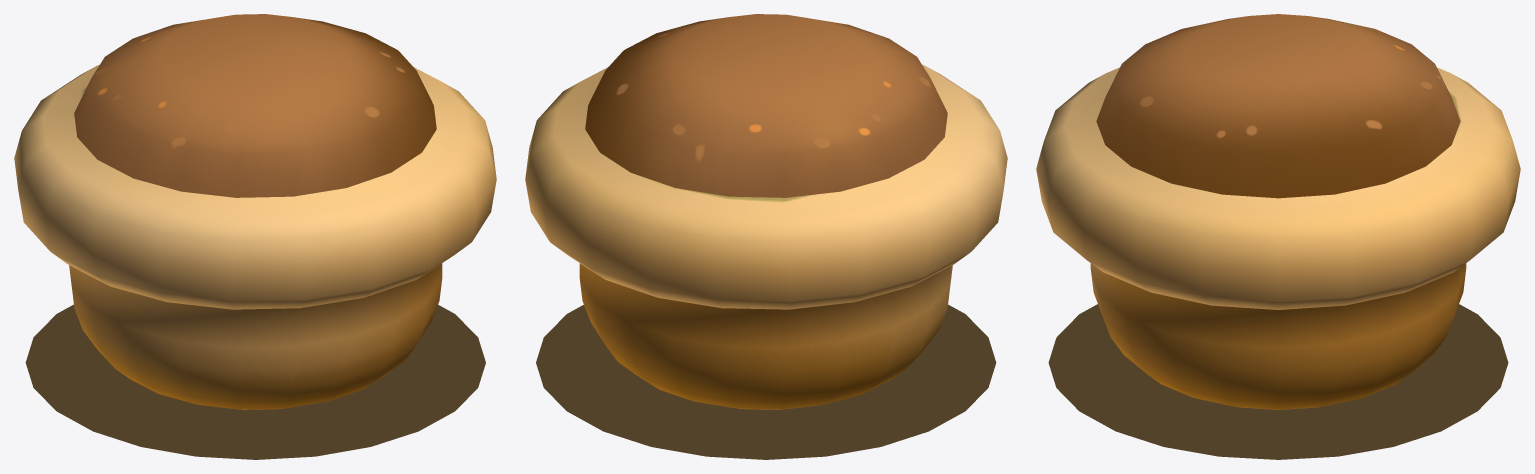
The model's file is Vase01.fbx.
The picture shows the model from 3 angles, left to right: view 1: azimuth 30°, elevation 25°; view 2: azimuth 150°, elevation 25°; view 3: azimuth 270°, elevation 25°; orthographic projection.
Parts seen in each view (by area): view 1: Vase01_body, Vase01_SDW; view 2: Vase01_body, Vase01_SDW; view 3: Vase01_body, Vase01_SDW.
Boxes of the visible parts, bbox=[...] form: Vase01_body: bbox=[14, 14, 496, 409]; Vase01_SDW: bbox=[25, 304, 485, 459]; Vase01_body: bbox=[525, 14, 1007, 409]; Vase01_SDW: bbox=[536, 304, 996, 459]; Vase01_body: bbox=[1036, 14, 1520, 409]; Vase01_SDW: bbox=[1048, 304, 1508, 459].
Bounding box in the file's own units: 89.42 × 62.77 × 89.42.
2 materials, 1 textured.
